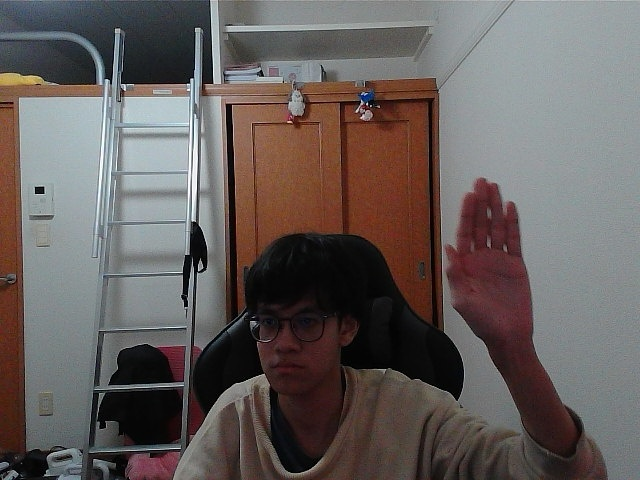open_palm: (451, 186, 515, 335)
